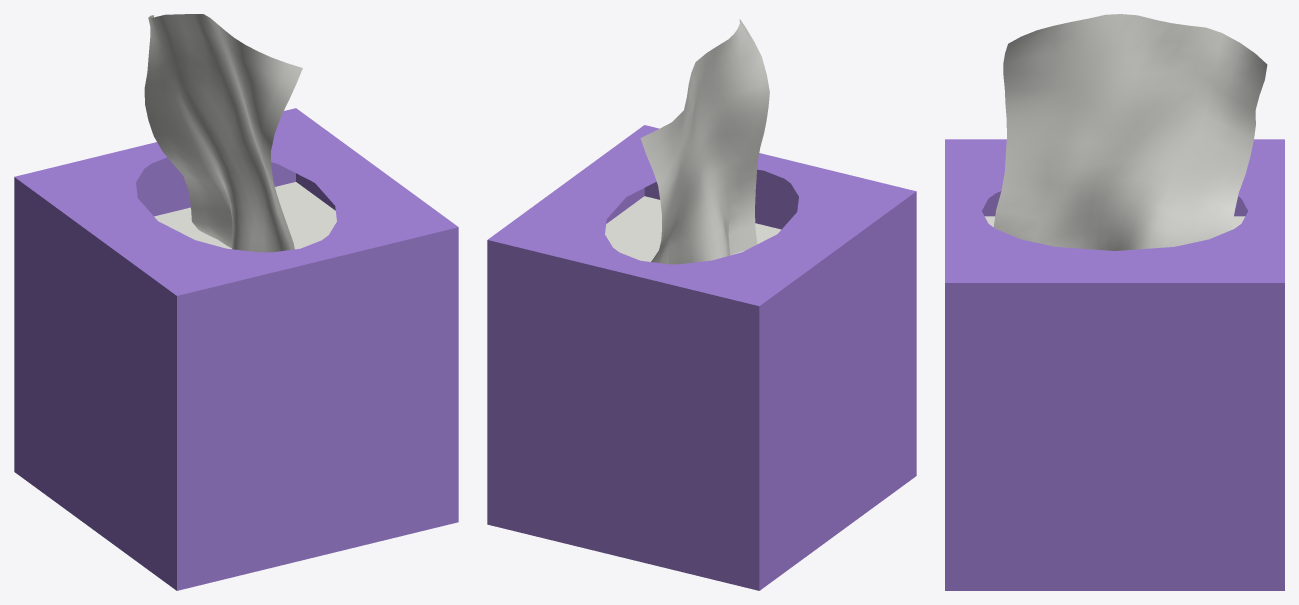
The model's file is Tissues.fbx.
3 renders of one model, left to right at view 1: azimuth 30°, elevation 25°; view 2: azimuth 150°, elevation 25°; view 3: azimuth 270°, elevation 25°, orthographic. The views are drawn at different scales.
Parts seen in each view (by area): view 1: Plane; view 2: Plane; view 3: Plane.
Part boxes in pixels (x1,y1,x2,y2): Plane: (14, 14, 458, 590); Plane: (487, 19, 916, 590); Plane: (945, 14, 1284, 590).
Size of the model in its own units: 263 by 425 by 263.
